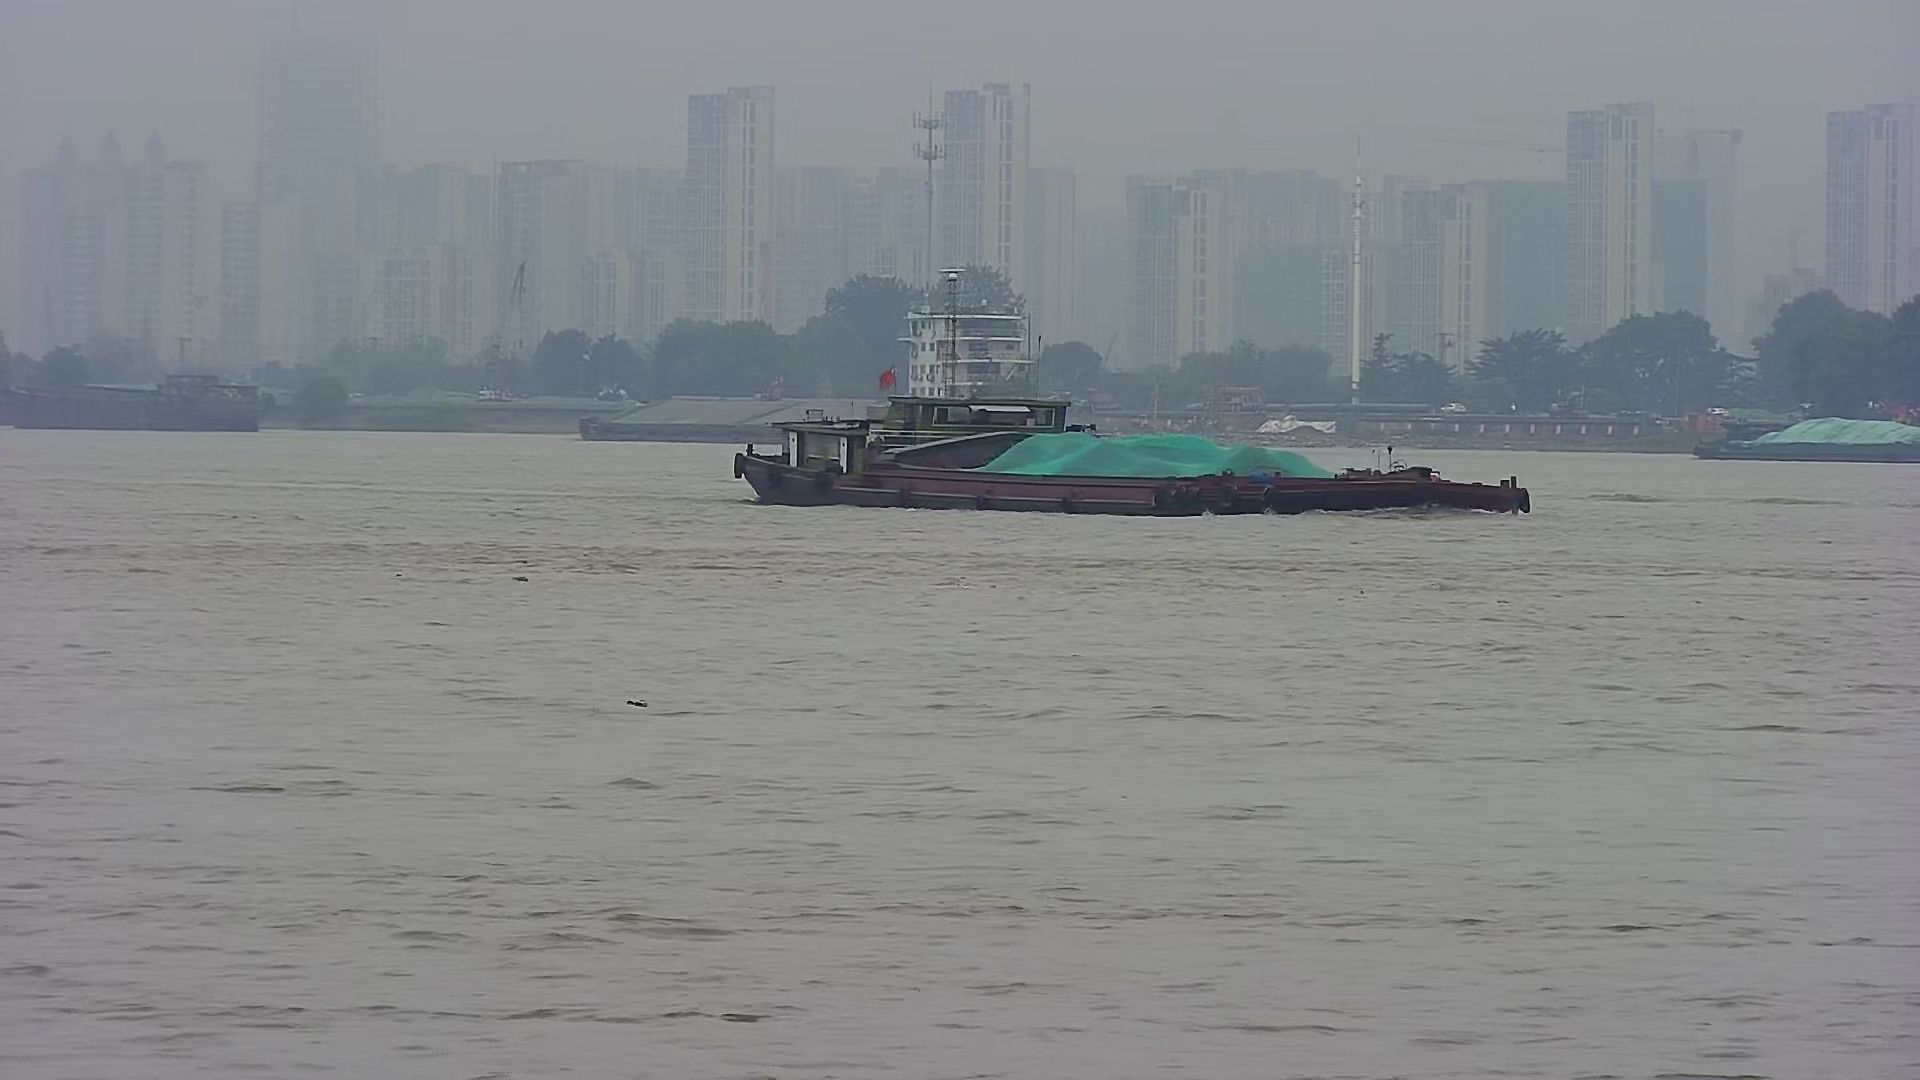ship: (717, 384, 1557, 527), (566, 261, 1069, 443), (1, 347, 277, 439)
